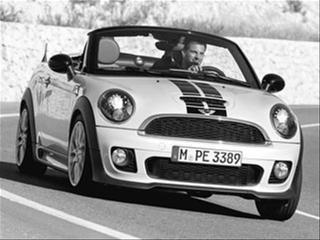car: (16, 28, 305, 224)
